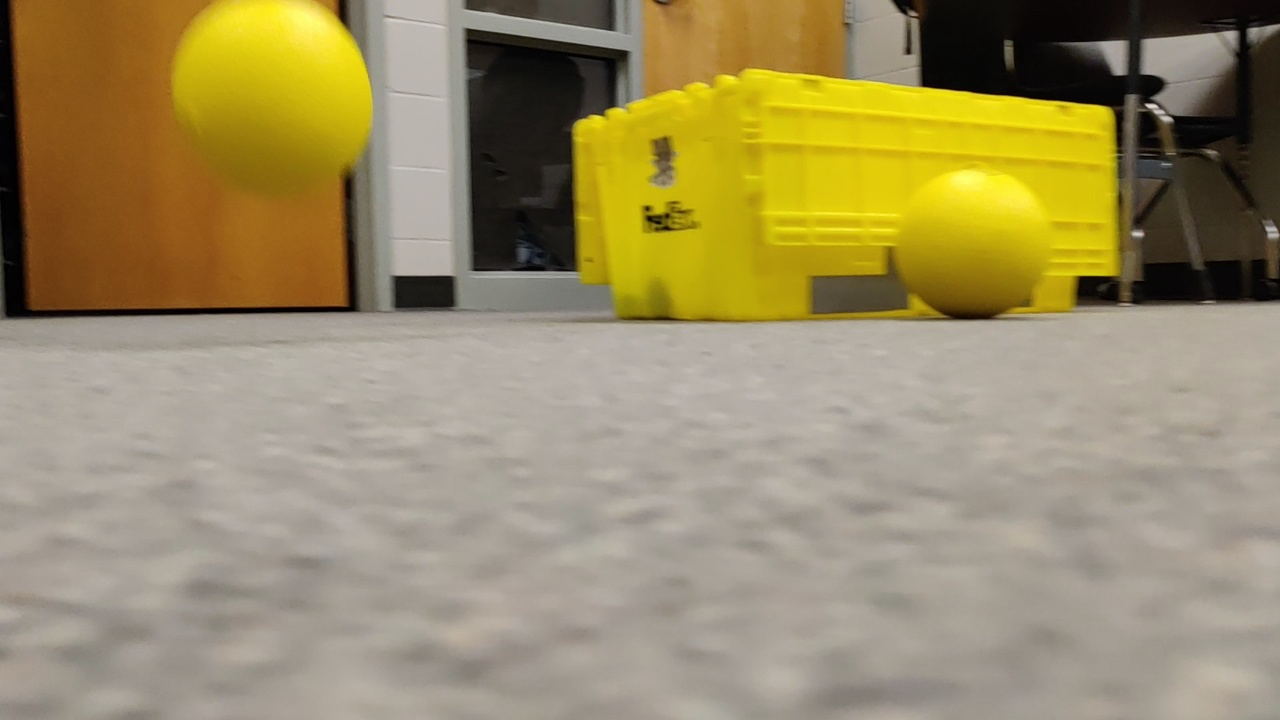Ball: (168, 2, 378, 202), (892, 157, 1062, 323)
